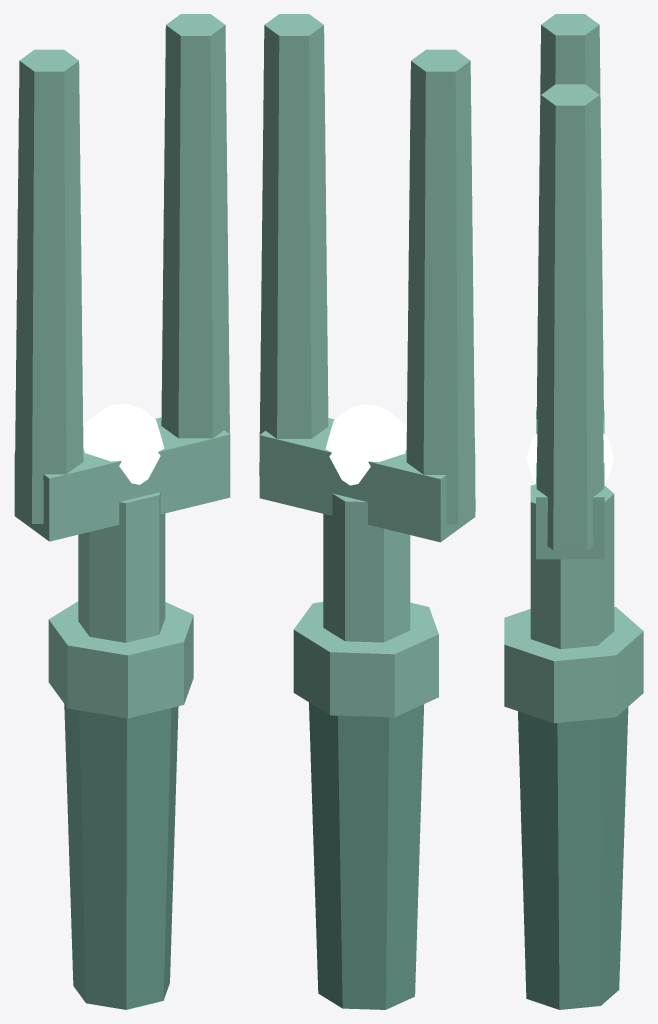
File: skysong_fork.glb
3 renders of one model, left to right at view 1: azimuth 30°, elevation 25°; view 2: azimuth 150°, elevation 25°; view 3: azimuth 270°, elevation 25°, orthographic.
Visible parts, largest first — view 1: Handle, Tine-1, Tine1, Collar, Bridge, Stem, SongBead; view 2: Handle, Tine-1, Tine1, Collar, Bridge, Stem, SongBead; view 3: Handle, Tine1, Collar, Stem, Tine-1, Bridge, SongBead.
Boxes of the visible parts, x1,y1,x2,y2 form: Handle: [64, 704, 178, 1009]; Tine-1: [14, 49, 83, 523]; Tine1: [161, 14, 229, 438]; Collar: [48, 601, 193, 718]; Bridge: [14, 417, 230, 541]; Stem: [78, 492, 165, 642]; SongBead: [83, 404, 164, 484]; Handle: [309, 702, 424, 1009]; Tine-1: [406, 49, 475, 524]; Tine1: [259, 14, 328, 475]; Collar: [293, 601, 438, 717]; Bridge: [259, 418, 475, 542]; Stem: [323, 493, 410, 642]; SongBead: [325, 404, 406, 485]; Handle: [518, 707, 628, 1009]; Tine1: [536, 84, 603, 550]; Collar: [504, 606, 643, 723]; Stem: [530, 484, 614, 649]; Tine-1: [536, 14, 603, 418]; Bridge: [536, 410, 604, 559]; SongBead: [526, 433, 614, 481].
Bounding box in the file's own units: 0.2306 × 1.05 × 0.1426.
